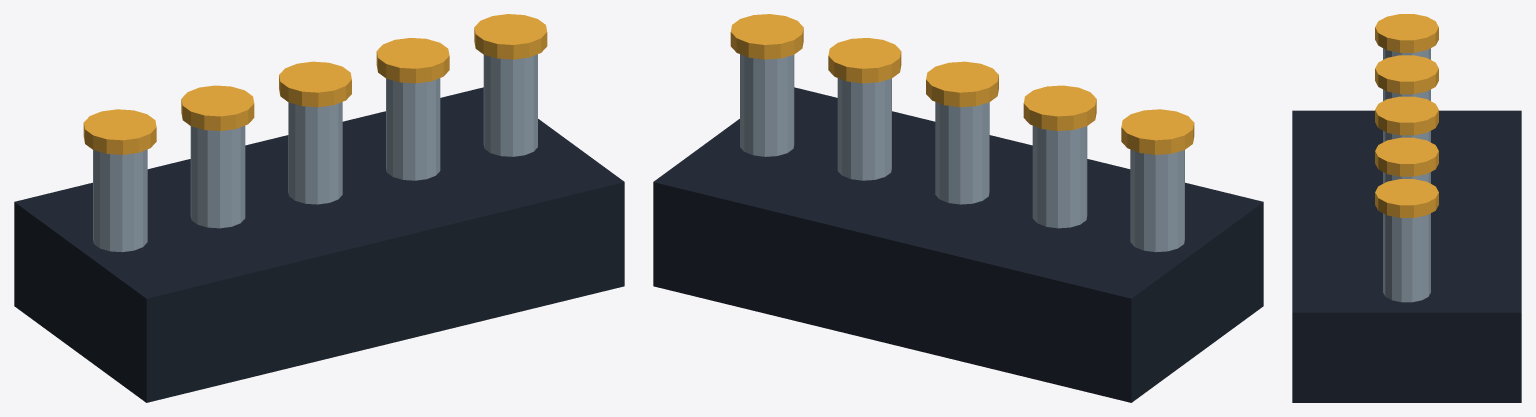
The model's file is 43_L86_RoboticToolDockAndCalibrationNest.fbx.
3 views of the same model, side by side, from view 1: azimuth 30°, elevation 25°; view 2: azimuth 150°, elevation 25°; view 3: azimuth 270°, elevation 25° (orthographic). The views are drawn at different scales.
Parts seen in each view (by area): view 1: L86_RoboticToolDockAndCalibrationNest_Part_0000, L86_RoboticToolDockAndCalibrationNest_Part_0001, L86_RoboticToolDockAndCalibrationNest_Part_0002; view 2: L86_RoboticToolDockAndCalibrationNest_Part_0000, L86_RoboticToolDockAndCalibrationNest_Part_0001, L86_RoboticToolDockAndCalibrationNest_Part_0002; view 3: L86_RoboticToolDockAndCalibrationNest_Part_0000, L86_RoboticToolDockAndCalibrationNest_Part_0002, L86_RoboticToolDockAndCalibrationNest_Part_0001.
Part boxes in pixels (box(x1,y1,x2,y2)): L86_RoboticToolDockAndCalibrationNest_Part_0000: box(14, 87, 624, 402); L86_RoboticToolDockAndCalibrationNest_Part_0001: box(93, 54, 537, 252); L86_RoboticToolDockAndCalibrationNest_Part_0002: box(83, 14, 547, 154); L86_RoboticToolDockAndCalibrationNest_Part_0000: box(653, 87, 1263, 402); L86_RoboticToolDockAndCalibrationNest_Part_0001: box(740, 54, 1184, 252); L86_RoboticToolDockAndCalibrationNest_Part_0002: box(730, 14, 1194, 154); L86_RoboticToolDockAndCalibrationNest_Part_0000: box(1292, 110, 1521, 402); L86_RoboticToolDockAndCalibrationNest_Part_0002: box(1375, 14, 1438, 217); L86_RoboticToolDockAndCalibrationNest_Part_0001: box(1383, 48, 1430, 302).
Bounding box in the file's own units: 240 × 106 × 115.
